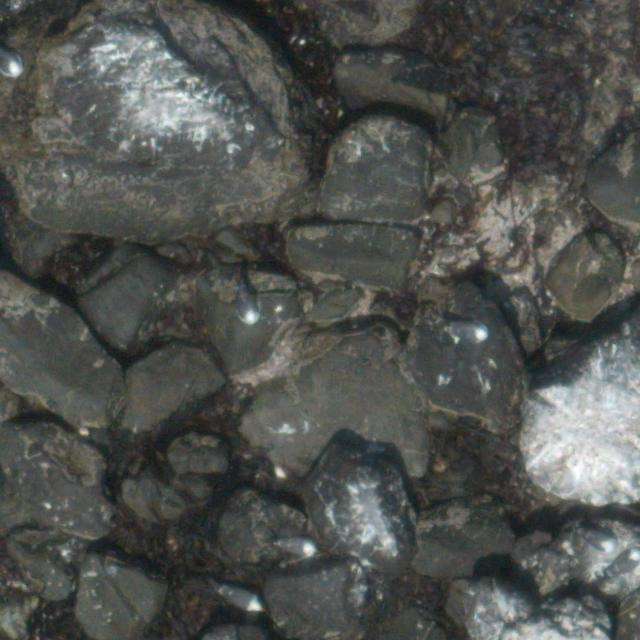umineko: (608, 547, 640, 582), (586, 530, 622, 554), (223, 587, 258, 609), (451, 324, 488, 342), (280, 538, 316, 555), (0, 50, 22, 76), (239, 293, 257, 323)
